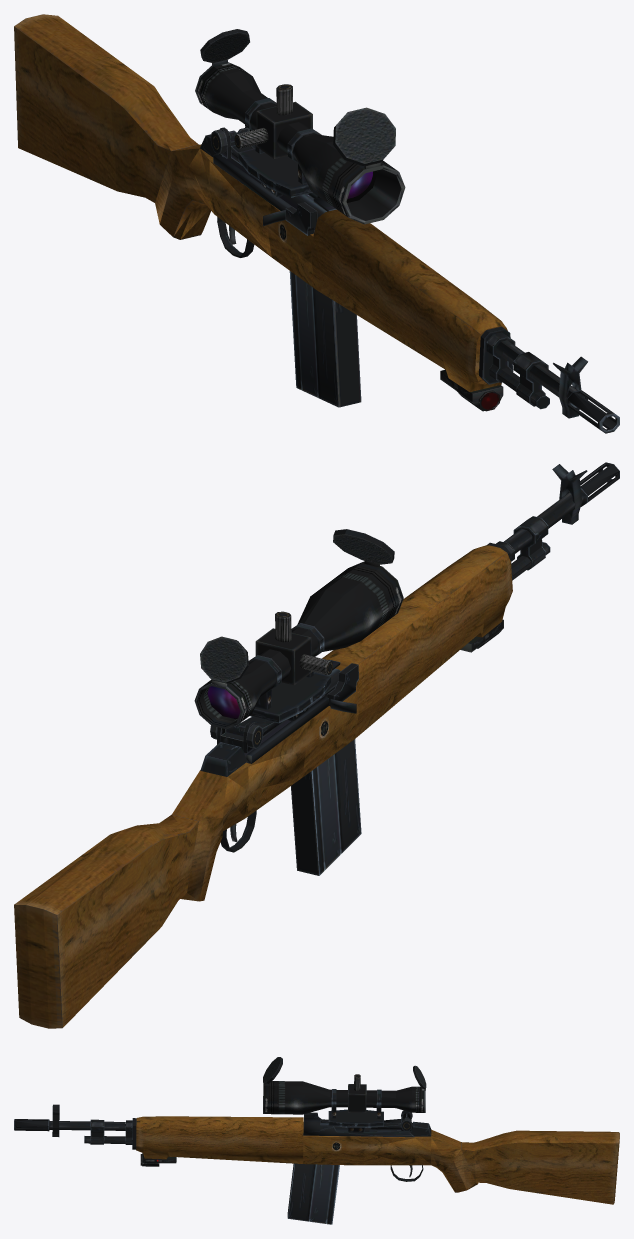
File: sniper_obj.FBX
The picture shows the model from 3 angles, top to bottom: view 1: azimuth 30°, elevation 25°; view 2: azimuth 150°, elevation 25°; view 3: azimuth 270°, elevation 25°; orthographic projection. The views are drawn at different scales.
Visible parts, largest first — view 1: sniper_obj; view 2: sniper_obj; view 3: sniper_obj.
Part boxes in pixels (bbox=[...]): sniper_obj: bbox=[14, 14, 619, 433]; sniper_obj: bbox=[14, 462, 619, 1028]; sniper_obj: bbox=[14, 1057, 619, 1224].
Size of the model in its own units: 2.25 by 28.78 by 8.52.
